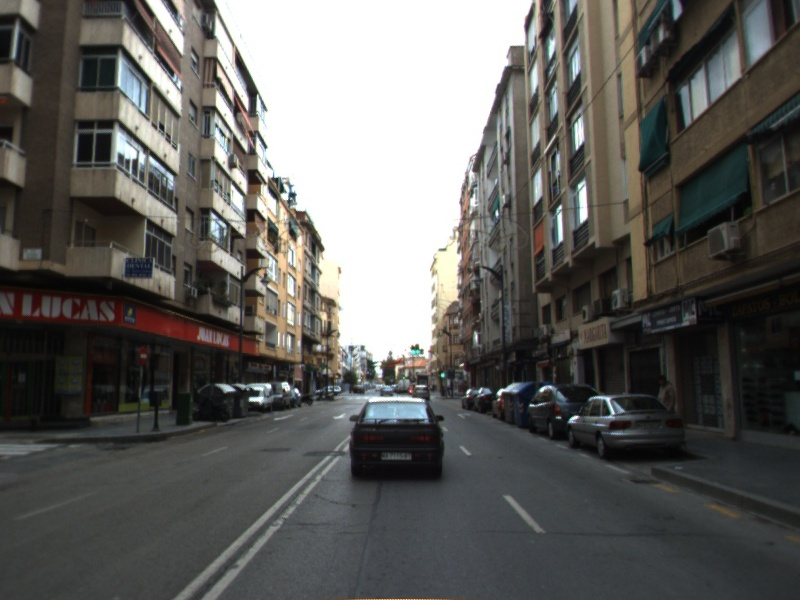RIGHT: (455, 411, 472, 420)
